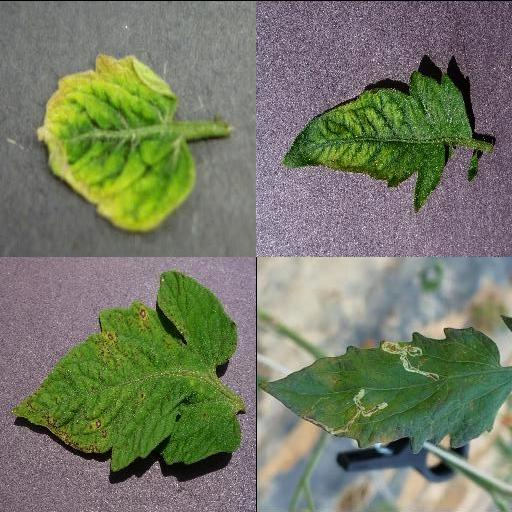Leaf Miner: (257, 327, 512, 456)
Mosaic Virus: (281, 68, 473, 212)
Septoria: (14, 269, 242, 475)
Yellow Leaf Curl Virus: (36, 50, 200, 232)
